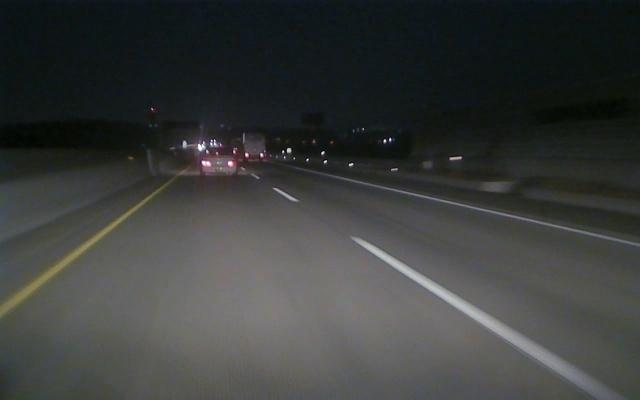lane: (277, 189, 626, 399), (351, 179, 638, 247), (2, 195, 151, 318)
